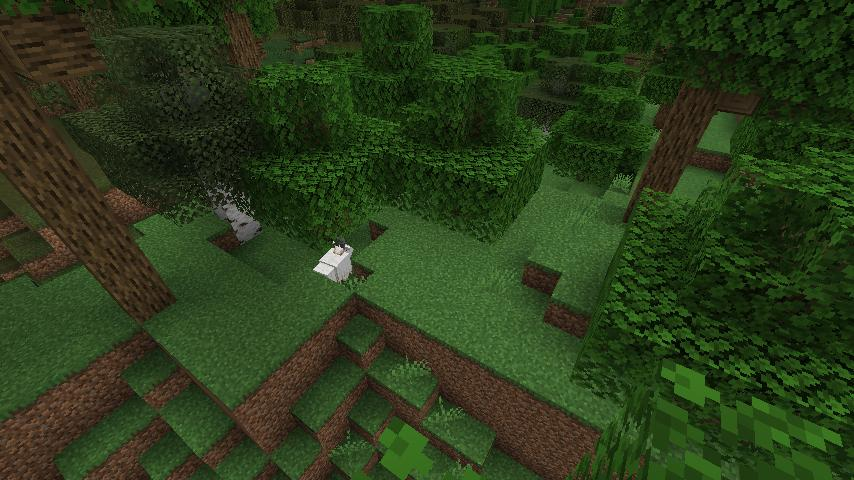goat: (314, 235, 354, 284)
